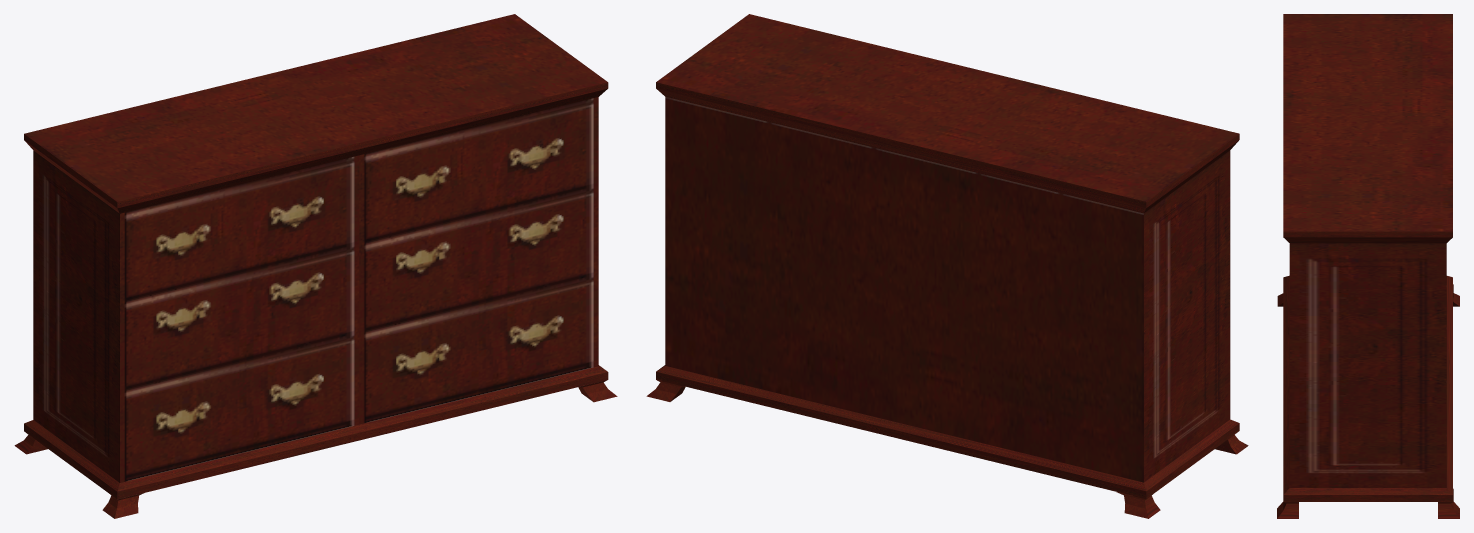
Rendered from wide_dresser.fbx.
3 views of the same model, side by side, from view 1: azimuth 30°, elevation 25°; view 2: azimuth 150°, elevation 25°; view 3: azimuth 270°, elevation 25° (orthographic). The views are drawn at different scales.
Parts seen in each view (by area): view 1: mesh_0; view 2: mesh_0; view 3: mesh_0.
Part boxes in pixels (x1,y1,x2,y2): mesh_0: (14,14,617,518); mesh_0: (646,14,1248,518); mesh_0: (1277,14,1459,518).
Bounding box in the file's own units: 168 × 99.96 × 58.19.
1 material, 1 textured.
